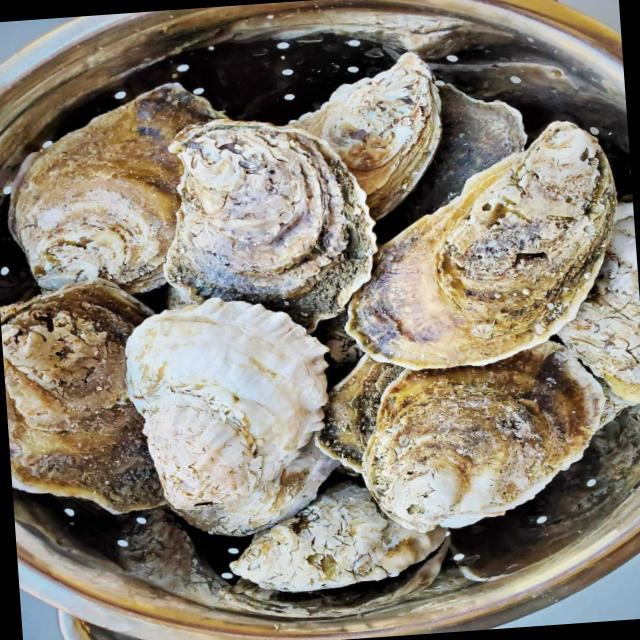Oyster- Indeterminate: (344, 120, 618, 371), (124, 305, 337, 535), (365, 341, 612, 535), (161, 121, 376, 333), (10, 85, 226, 295), (0, 285, 165, 515), (458, 399, 640, 593), (230, 493, 447, 594), (305, 332, 419, 494), (556, 200, 640, 405)
Oyster-Closed: (298, 53, 440, 220)
